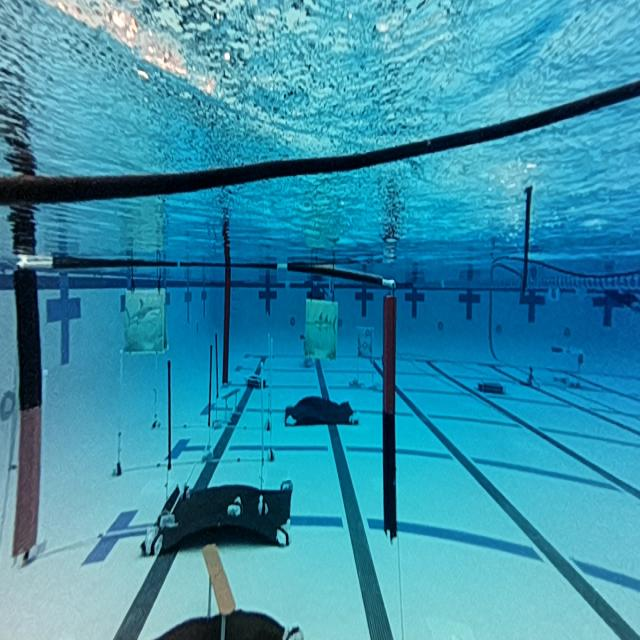pointed_nose: (306, 296, 340, 358)
round_nose: (121, 282, 170, 360)
